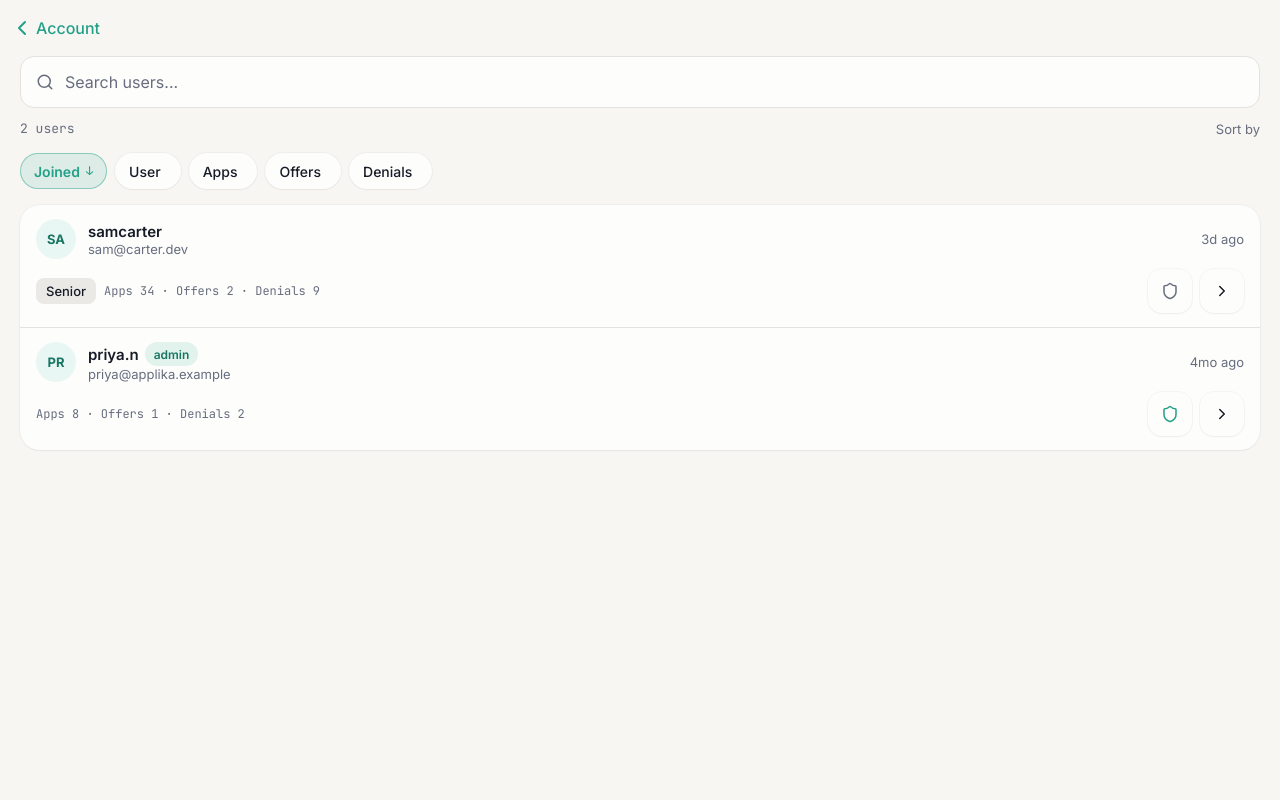
Test: the admin Users board below md (v3/AdminUsers) › opens a user's details in a sheet, omits the empty rows and returns focus on close
Expected: the text "samcarter" is shown, [88,222,162,240]
Step 1. Click the button named "View user details" in the row of "Apps 34 · Offers 2 · Denials 9" → click(1222, 291), box [1200,269,1244,313]
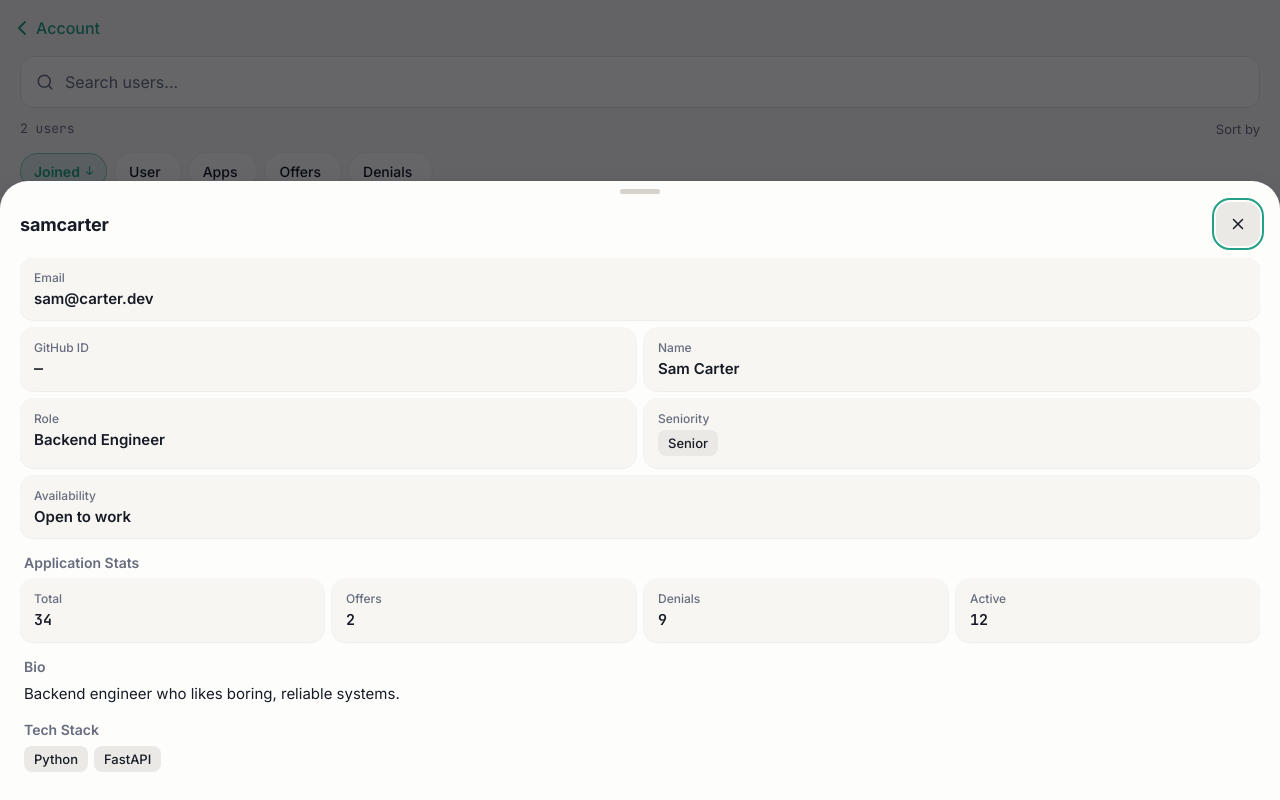
Expected: the element that starts with "Email" is shown, [20,258,1260,538]
Expected: the text "sam@carter.dev" is shown, [34,288,154,308]
Expected: the text "—" is shown, [34,358,43,378]
Step 2. Click the button named "Close" → click(1238, 224), box [1216,202,1260,246]
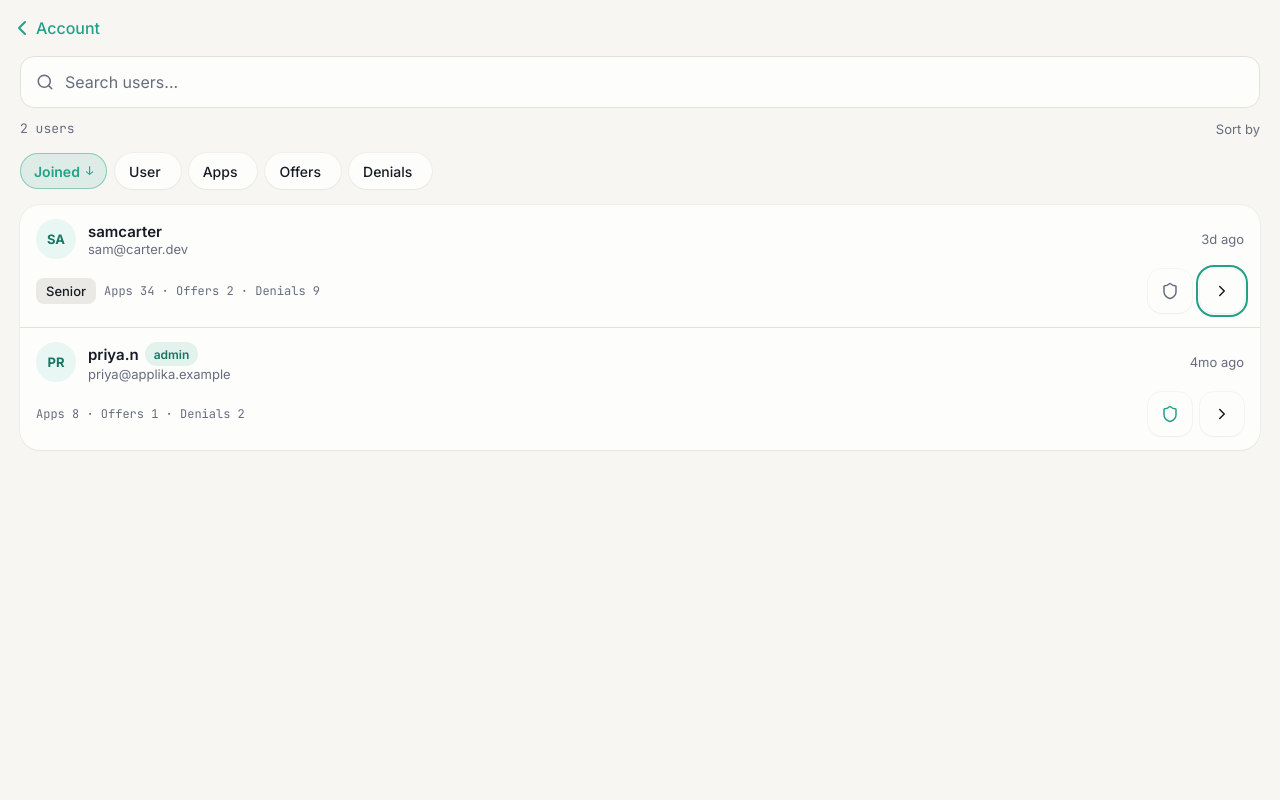
Expected: the dialog is gone
